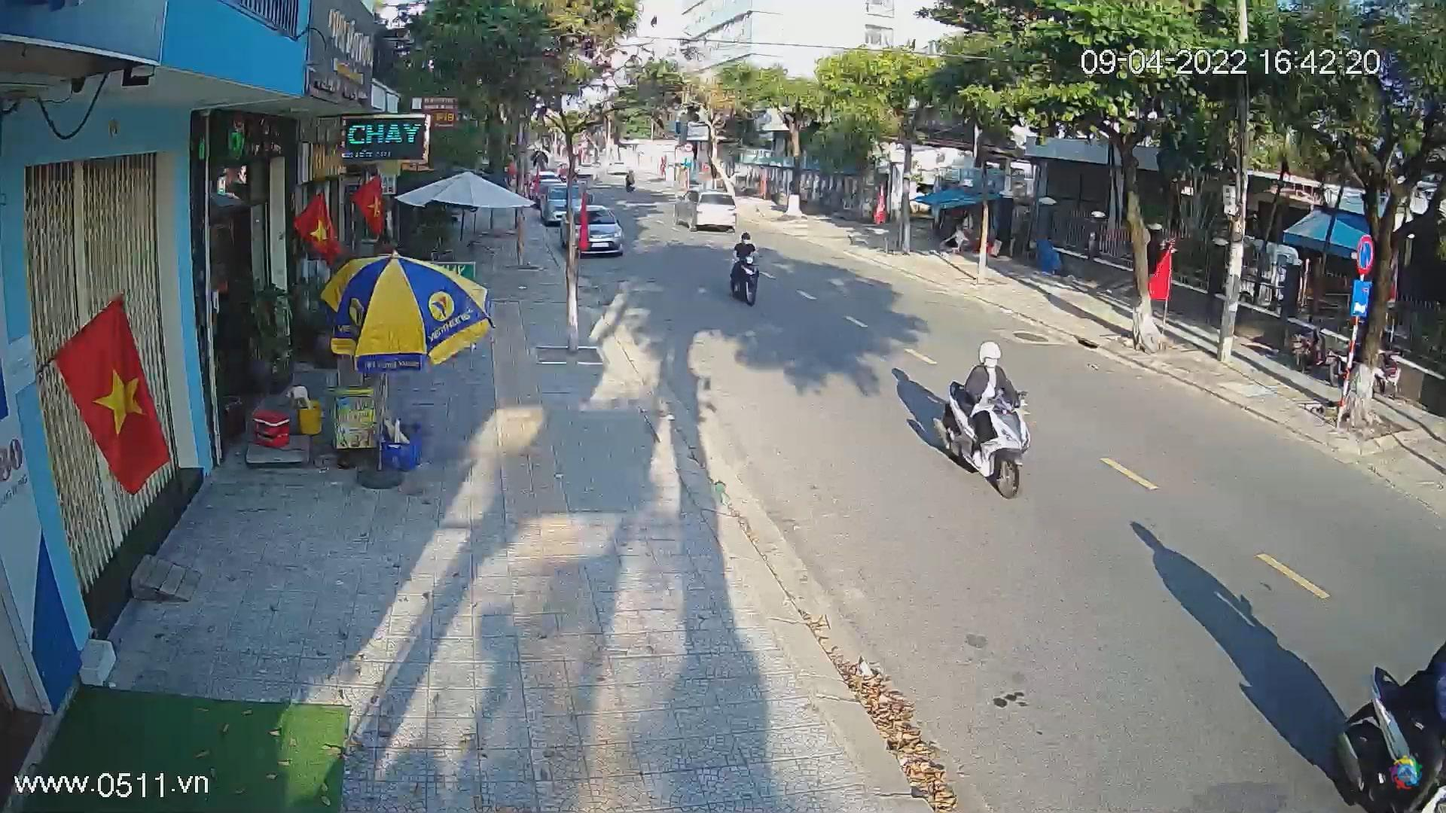car: (562, 202, 627, 260), (674, 184, 738, 231)
motorbike: (927, 375, 1039, 499), (725, 247, 764, 312)
